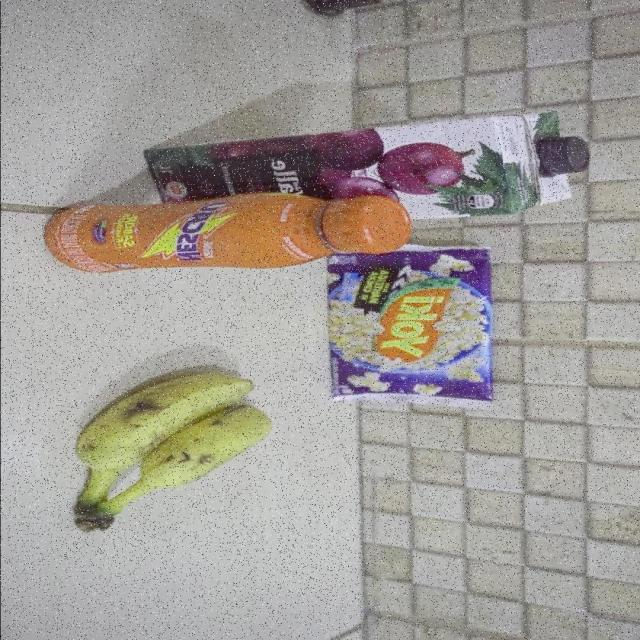Banana: (66, 374, 270, 534)
ChocolateMilk: (47, 189, 412, 274)
Popcorn: (316, 244, 496, 407)
